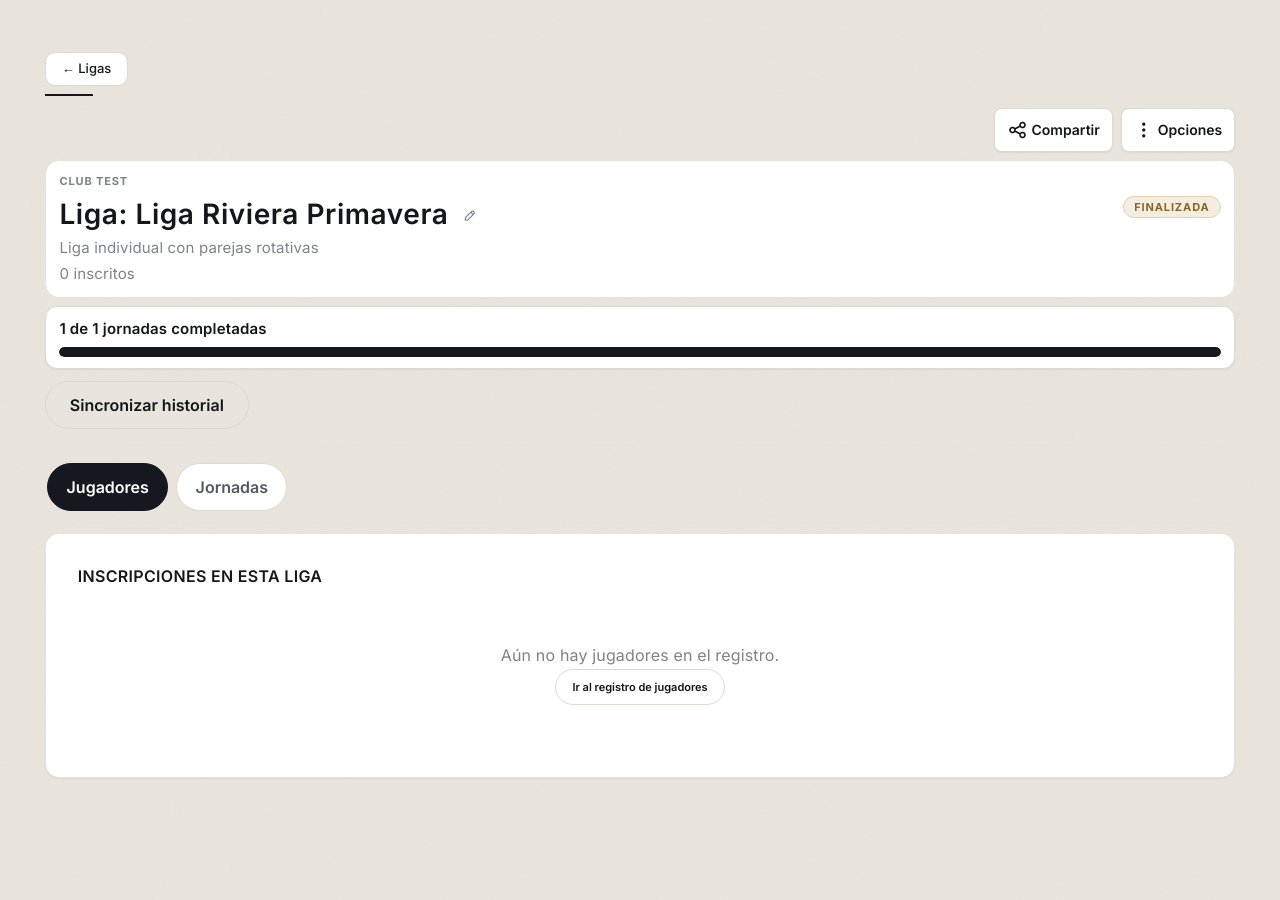
Test: LigaGestionar — composición (render real, sin snapshots) › una liga finalizada no ofrece «Iniciar liga» ni «Reiniciar liga» (misma lógica de siempre)
Click the button "Opciones" at (1178, 130), box x1=1121 y1=108 x2=1235 y2=152
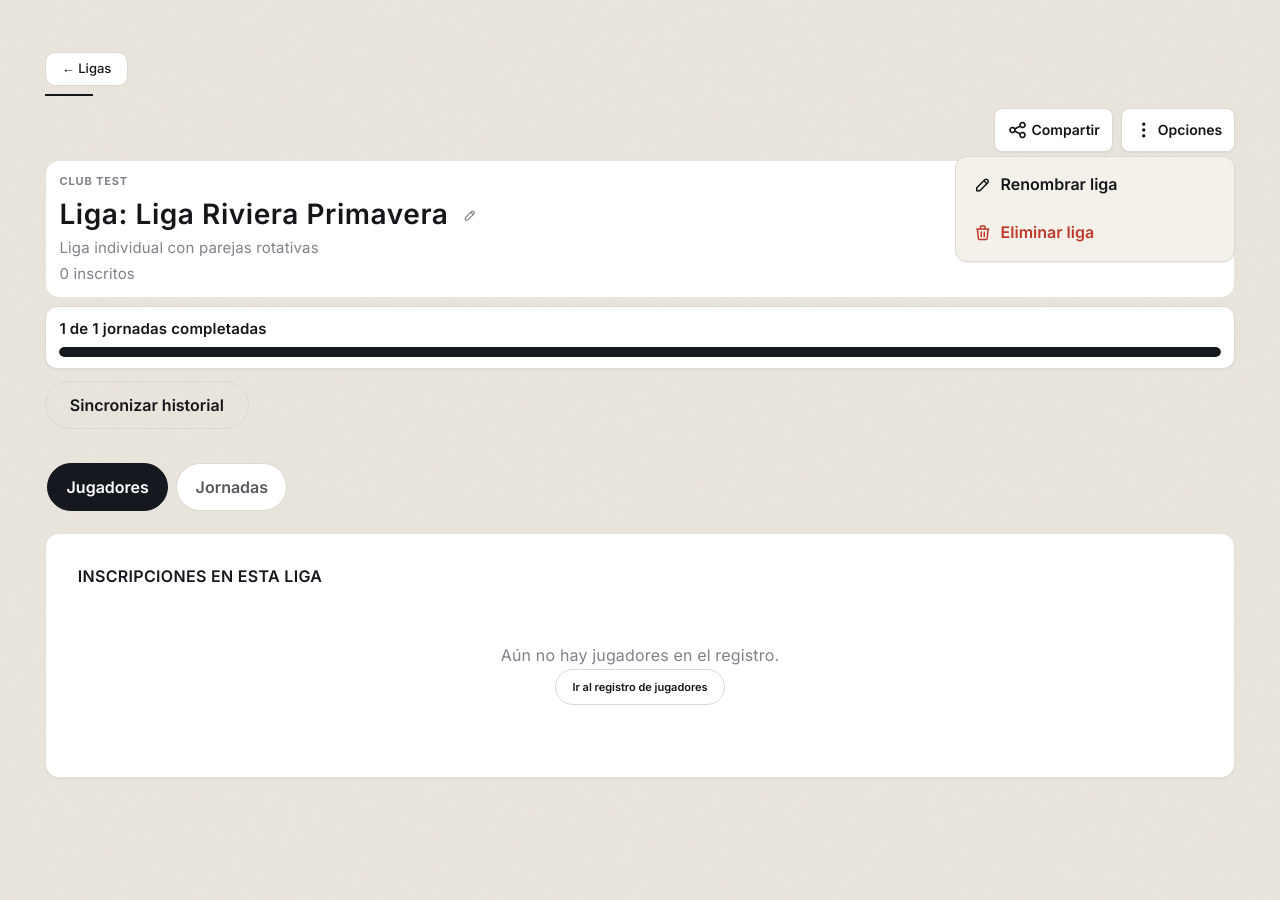
Expected: the menu with class "liga-gestionar-options" shows "Eliminar liga", x1=960 y1=209 x2=1230 y2=257
